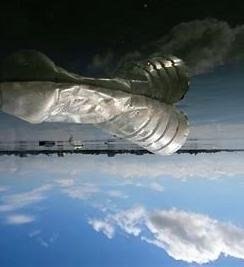Plastic: (0, 81, 190, 157)
